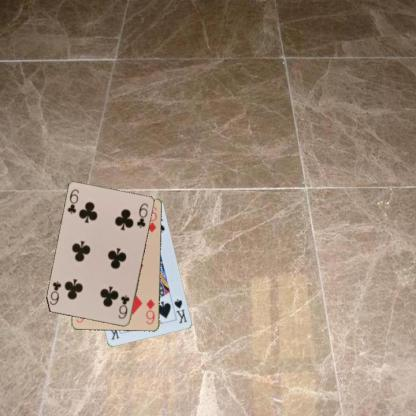6c: (65, 186, 80, 216), (116, 292, 131, 320)
6d: (143, 296, 156, 326)
Ks: (172, 296, 188, 325)
